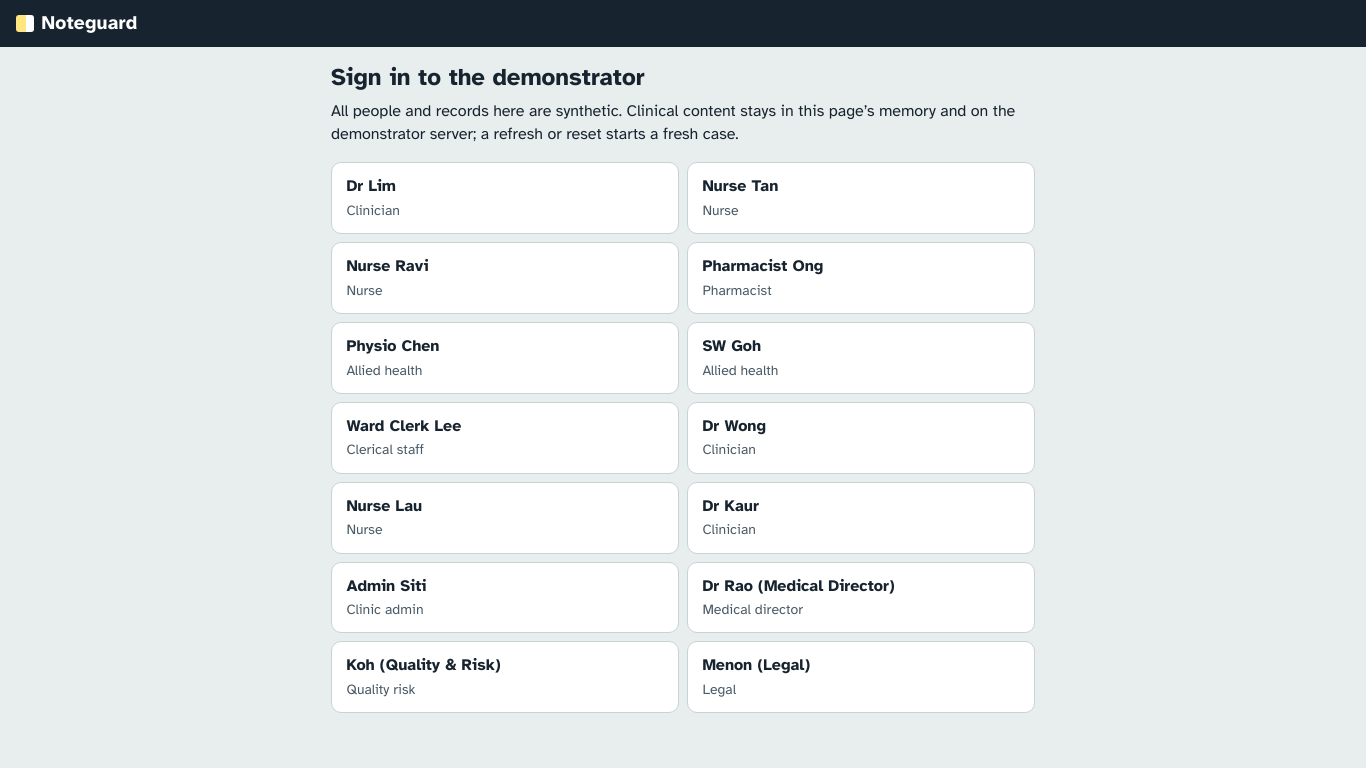
Test: a clinician is not shown the aggregate page and never requests it
Click the button "Dr Lim Clinician": (371, 186) [331,162,679,234]
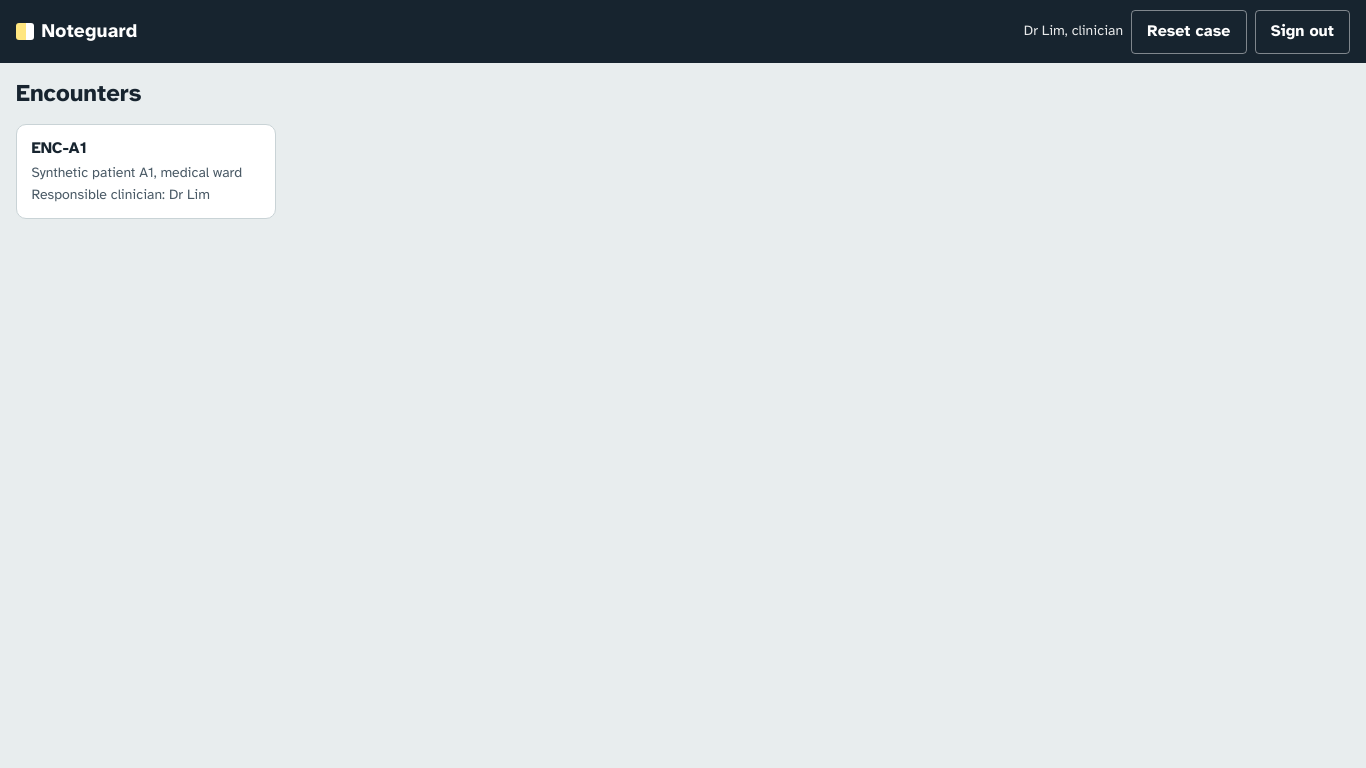
Now the button "ENC-A1" is shown, box [16,124,276,219]
